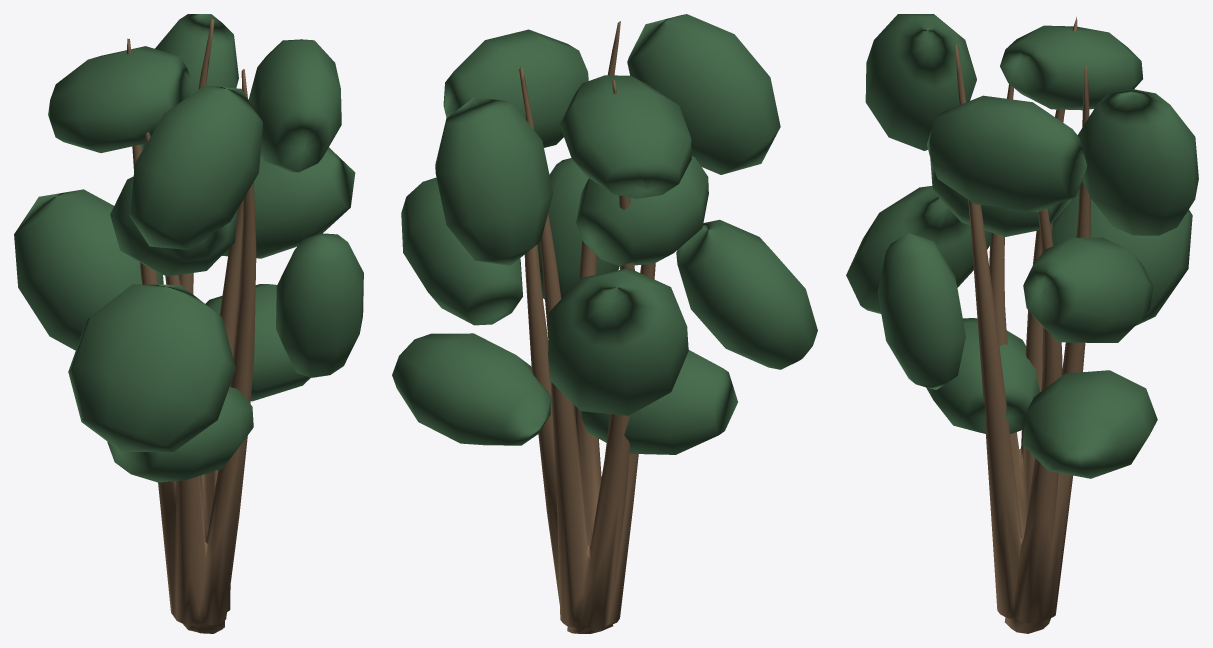
File: Myrte_1_Niveau2.fbx
3 renders of one model, left to right at view 1: azimuth 30°, elevation 25°; view 2: azimuth 150°, elevation 25°; view 3: azimuth 270°, elevation 25°, orthographic.
Parts seen in each view (by area): view 1: Myrte_1_Niveau2_Jeu; view 2: Myrte_1_Niveau2_Jeu; view 3: Myrte_1_Niveau2_Jeu.
Boxes of the visible parts, <box> form: Myrte_1_Niveau2_Jeu: <box>14,14,363,633</box>; Myrte_1_Niveau2_Jeu: <box>392,14,817,633</box>; Myrte_1_Niveau2_Jeu: <box>846,14,1198,633</box>.
Bounding box in the file's own units: 112 × 187 × 102.
